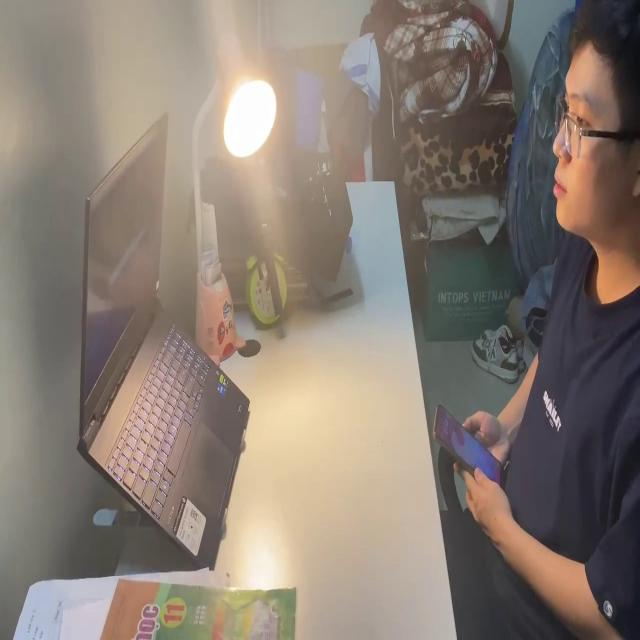book: (14, 570, 301, 640)
laptop: (79, 108, 250, 566)
phone: (431, 392, 514, 500)
student: (431, 1, 640, 640)
